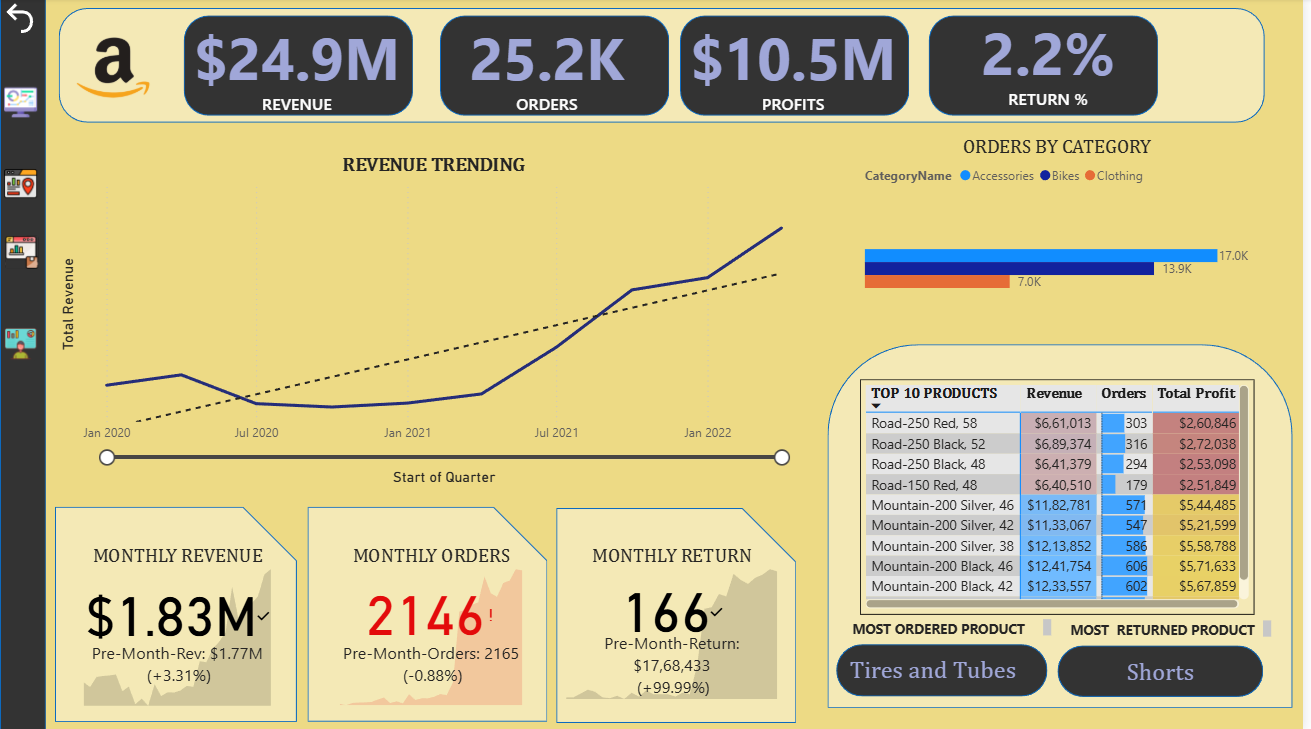

What the dashboard file says about the page in this screenshot:
{"tool":"powerbi","page":{"name":"Exec Dash","canvas":[1280,720],"ordinal":1},"visuals":[{"type":"shape","title":"Left Bar","box":[0,0,45,720.3],"z":0},{"type":"card","fields":{"Values":["Measure Table.Total Revenue"]},"box":[170.6,16.9,242.4,98.4],"z":0,"group":"g2"},{"type":"group","id":"g1","title":"Kpi Cards","box":[179.8,16.9,956.6,98.3],"z":0,"group":"g3"},{"type":"shape","box":[179.8,16.9,225.2,98.3],"z":0,"group":"g1"},{"type":"shape","box":[820.6,634.5,207.3,51.3],"z":0,"group":"g5"},{"type":"shape","box":[1037.7,635.7,202,50.5],"z":0,"group":"g4"},{"type":"group","id":"g2","title":"KPI VALUES","box":[170.6,12.3,979.9,103],"z":1000,"group":"g3"},{"type":"card","fields":{"Values":["Measure Table.Total Profit"]},"box":[658.3,16.9,242.4,98.4],"z":1000,"group":"g2"},{"type":"shape","box":[911.2,16.9,225.2,98.3],"z":1000,"group":"g1"},{"type":"lineChart","title":"REVENUE  TRENDING","fields":{"Y":["Measure Table.Total Revenue"],"Category":["Calendar Lookup.Date Hierarchy.Start of Year","Calendar Lookup.Date Hierarchy.Start of Quarter","Calendar Lookup.Date Hierarchy.Start of Month"]},"box":[54,153.4,742.3,328.8],"z":1000},{"type":"card","fields":{"Values":["Min(Product Subcategories Lookup.SubcategoryName)"]},"box":[776.7,631.9,278.5,56.4],"z":1000,"group":"g5"},{"type":"card","fields":{"Values":["Min(Product Subcategories Lookup.SubcategoryName)"]},"box":[1036.6,636.7,204.9,50.5],"z":1000,"group":"g4"},{"type":"actionButton","box":[0,0,106.7,39.3],"z":2000},{"type":"card","fields":{"Values":["Measure Table.Total Orders Recieved"]},"box":[415.9,16.9,242.4,98.4],"z":2000,"group":"g2"},{"type":"shape","box":[667.4,16.9,225.2,98.3],"z":2000,"group":"g1"},{"type":"card","fields":{"Values":["Measure Table.Return Rate"]},"box":[908,12.3,242.5,98.8],"z":3000,"group":"g2"},{"type":"shape","box":[431.1,16.9,225.2,98.3],"z":3000,"group":"g1"},{"type":"actionButton","box":[0,319,99.4,40.5],"z":3000},{"type":"actionButton","box":[1.2,229.4,45.4,40.5],"z":4000},{"type":"actionButton","box":[0,162,45.4,40.5],"z":5000},{"type":"actionButton","box":[0,82.2,99.4,40.5],"z":6000},{"type":"shape","box":[57.5,10,1183.8,112.5],"z":7000},{"type":"clusteredBarChart","title":"ORDERS BY CATEGORY","fields":{"Series":["Product Categories Lookup.CategoryName"],"Y":["Measure Table.Total Orders Recieved"]},"box":[843.8,136.2,386.2,207.5],"z":8000},{"type":"image","box":[50.3,9.8,120.2,117.8],"z":9000},{"type":"group","id":"g3","title":"KPI CARDS/VALUES","box":[170.6,12.3,980.4,103.1],"z":10000},{"type":"shape","box":[812.3,339.9,456.4,357.1],"z":11000},{"type":"group","id":"g4","title":"Most Return Product","box":[1036.6,635.7,204.9,51.5],"z":12000},{"type":"textbox","box":[1045.4,606.1,207.4,25.8],"z":13000},{"type":"pivotTable","fields":{"Rows":["Product Lookup.ProductName"],"Values":["Measure Table.Total Revenue","Measure Table.Total Orders Recieved","Measure Table.Total Profit"]},"box":[843.8,373.8,387.5,231.2],"z":14000},{"type":"textbox","box":[831.9,604.9,204.9,25.8],"z":15000},{"type":"group","id":"g5","title":"Most Order Product","box":[776.7,631.9,278.5,56.4],"z":16000},{"type":"shape","box":[53.8,500,237.5,211.2],"z":17000},{"type":"kpi","title":"MONTHLY REVENUE","fields":{"Indicator":["Measure Table.Total Revenue"],"TrendLine":["Calendar Lookup.Start of Month"],"Goal":["Measure Table.Previous Month Revenue"]},"box":[77.5,537.5,193.8,162.5],"z":18000},{"type":"shape","box":[546,500.6,235.6,211],"z":21000},{"type":"kpi","title":"MONTHLY RETURN","fields":{"TrendLine":["Calendar Lookup.Start of Month"],"Indicator":["Measure Table.Total Returns Recieved"],"Goal":["Measure Table.Previous Month Revenue"]},"box":[550.9,537.4,217.2,155.8],"z":22000},{"type":"shape","box":[301.8,499.4,235.6,211],"z":23500},{"type":"kpi","title":"MONTHLY ORDERS","fields":{"TrendLine":["Calendar Lookup.Start of Month"],"Indicator":["Measure Table.Total Orders Recieved"],"Goal":["Measure Table.Previous Month Orders"]},"box":[328.8,537.4,189,162],"z":24000}]}

Visuals, with their boxes on the page's 1280x720 design canvas (x1, y1, x2, y2). These are canvas units, not pixel positions in the 1311x729 screenshot, which may show the page scaled, cropped or inside an application window:
"Left Bar" shape: bbox=[0, 0, 45, 720]
card - Measure Table.Total Revenue: bbox=[171, 17, 413, 115]
"Kpi Cards" group: bbox=[180, 17, 1136, 115]
shape: bbox=[180, 17, 405, 115]
shape: bbox=[821, 634, 1028, 686]
shape: bbox=[1038, 636, 1240, 686]
"KPI VALUES" group: bbox=[171, 12, 1150, 115]
card - Measure Table.Total Profit: bbox=[658, 17, 901, 115]
shape: bbox=[911, 17, 1136, 115]
"REVENUE  TRENDING" lineChart: bbox=[54, 153, 796, 482]
card - Min(Product Subcategories Lookup.SubcategoryName): bbox=[777, 632, 1055, 688]
card - Min(Product Subcategories Lookup.SubcategoryName): bbox=[1037, 637, 1242, 687]
actionButton: bbox=[0, 0, 107, 39]
card - Measure Table.Total Orders Recieved: bbox=[416, 17, 658, 115]
shape: bbox=[667, 17, 893, 115]
card - Measure Table.Return Rate: bbox=[908, 12, 1150, 111]
shape: bbox=[431, 17, 656, 115]
actionButton: bbox=[0, 319, 99, 360]
actionButton: bbox=[1, 229, 47, 270]
actionButton: bbox=[0, 162, 45, 202]
actionButton: bbox=[0, 82, 99, 123]
shape: bbox=[58, 10, 1241, 122]
"ORDERS BY CATEGORY" clusteredBarChart: bbox=[844, 136, 1230, 344]
image: bbox=[50, 10, 170, 128]
"KPI CARDS/VALUES" group: bbox=[171, 12, 1151, 115]
shape: bbox=[812, 340, 1269, 697]
"Most Return Product" group: bbox=[1037, 636, 1242, 687]
textbox: bbox=[1045, 606, 1253, 632]
pivotTable - Product Lookup.ProductName x Measure Table.Total Revenue: bbox=[844, 374, 1231, 605]
textbox: bbox=[832, 605, 1037, 631]
"Most Order Product" group: bbox=[777, 632, 1055, 688]
shape: bbox=[54, 500, 291, 711]
"MONTHLY REVENUE" kpi: bbox=[78, 538, 271, 700]
shape: bbox=[546, 501, 782, 712]
"MONTHLY RETURN" kpi: bbox=[551, 537, 768, 693]
shape: bbox=[302, 499, 537, 710]
"MONTHLY ORDERS" kpi: bbox=[329, 537, 518, 699]
